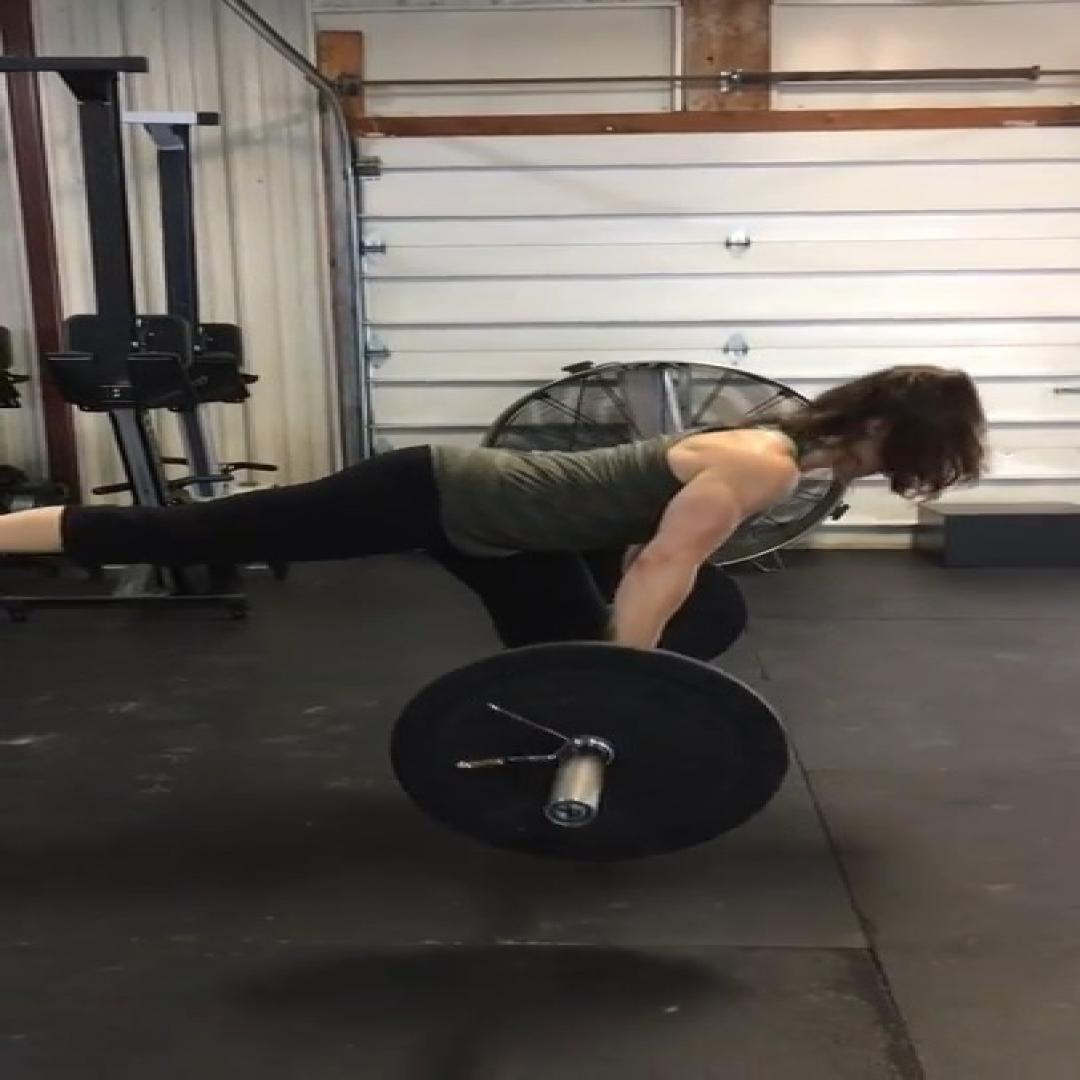Bar: (540, 798, 599, 828)
Barbell: (388, 642, 788, 861)
